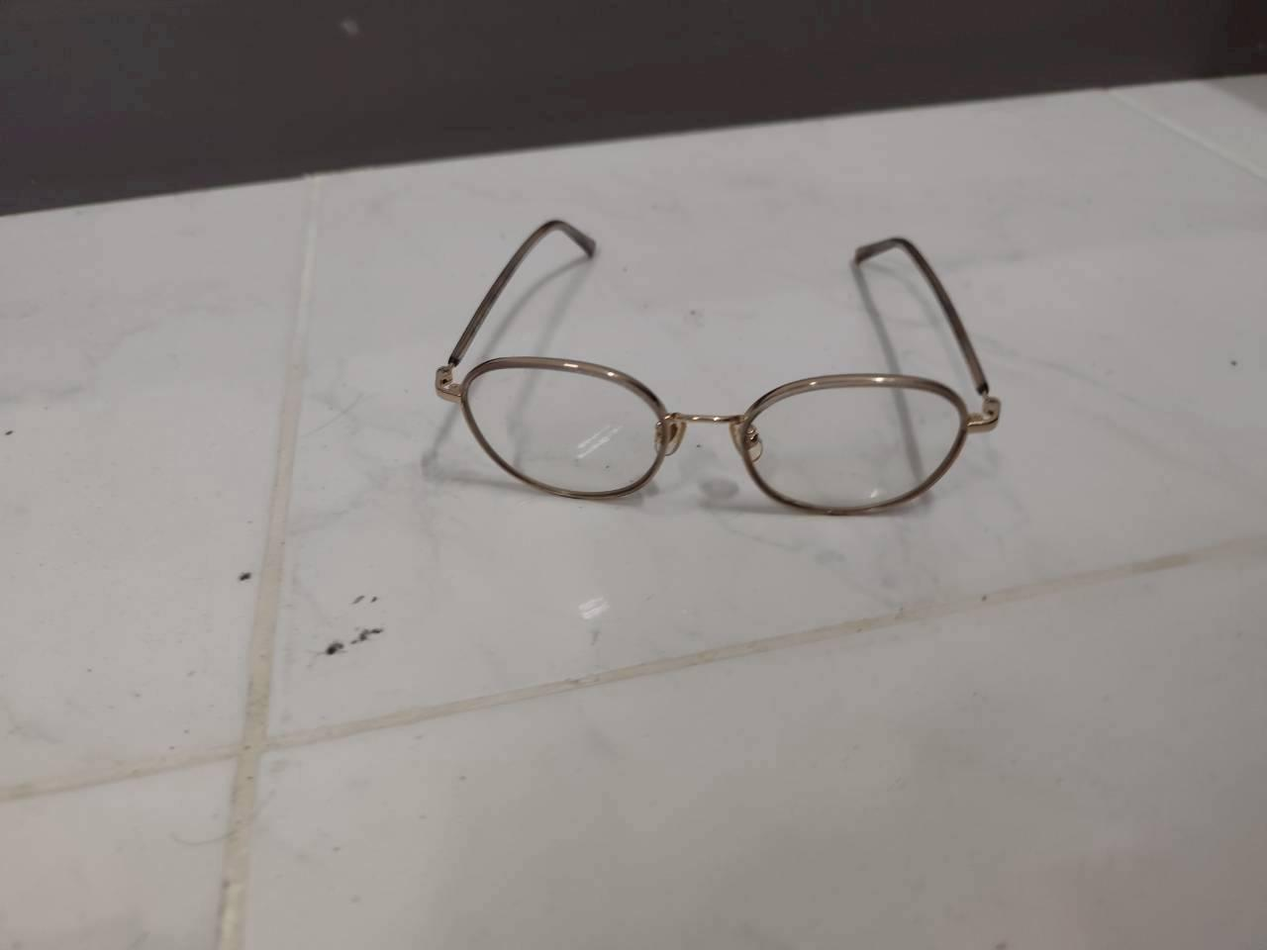glasses: (421, 200, 1015, 532)
